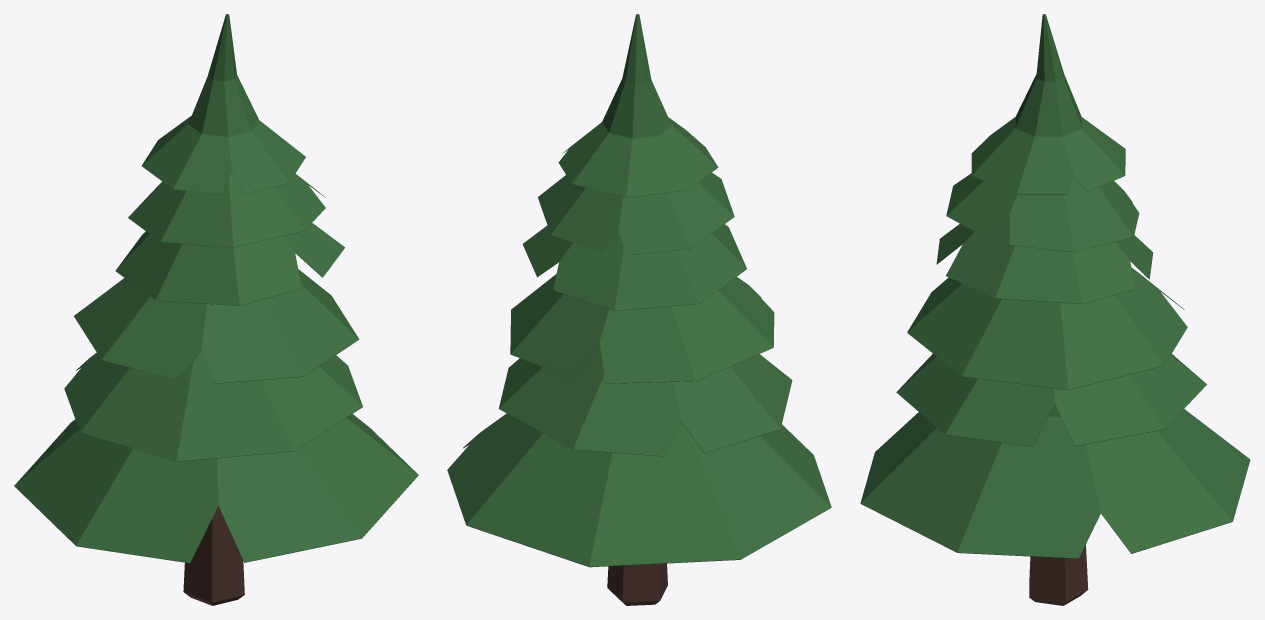
The model's file is Tall tree.fbx.
3 views of the same model, side by side, from view 1: azimuth 30°, elevation 25°; view 2: azimuth 150°, elevation 25°; view 3: azimuth 270°, elevation 25° (orthographic).
Parts seen in each view (by area): view 1: Tree tall; view 2: Tree tall; view 3: Tree tall.
Boxes of the visible parts, x1=… form: Tree tall: x1=14, y1=14, x2=418, y2=605; Tree tall: x1=447, y1=14, x2=831, y2=605; Tree tall: x1=860, y1=14, x2=1250, y2=605.
Bounding box in the file's own units: 751 × 1254 × 758.
